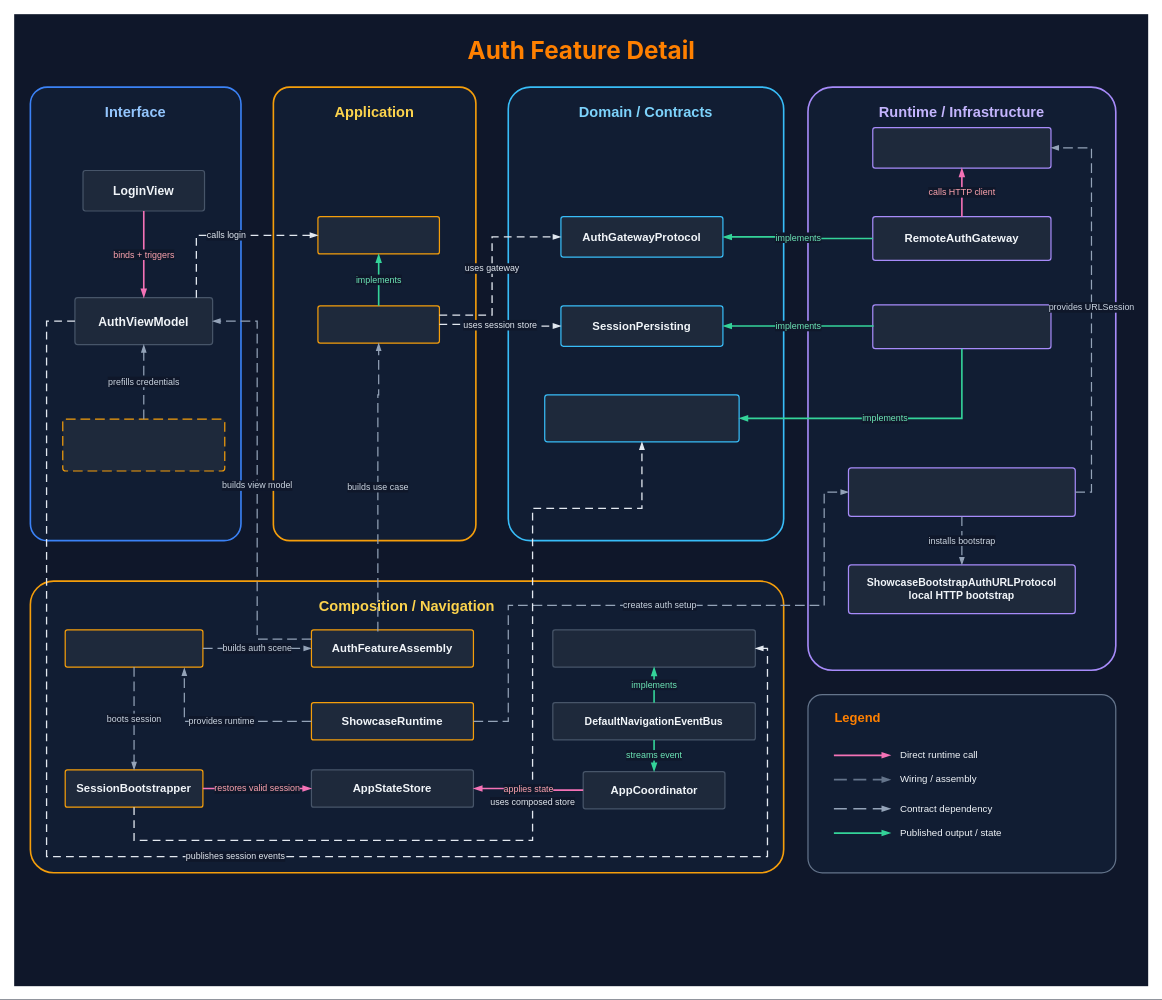
Some shapes in this 1162 by 1000 pixel diagram are drawn without their labels. Each missing label, with the centre of its shape:
"CompositionRoot" belongs at pixel 133 648.
"Evaluation quick access pre-fills credentials" belongs at pixel 143 444.
"KeychainSessionStore" belongs at pixel 961 326.
"LoginExecuting" belongs at pixel 378 235.
"LoginUseCase" belongs at pixel 378 324.
"NavigationEventPublishing" belongs at pixel 654 648.
"SessionReading + SessionClearing" belongs at pixel 641 418.
"ShowcaseAuthRuntimeConfiguration" belongs at pixel 962 492.
"URLSessionHTTPClient" belongs at pixel 961 147.
